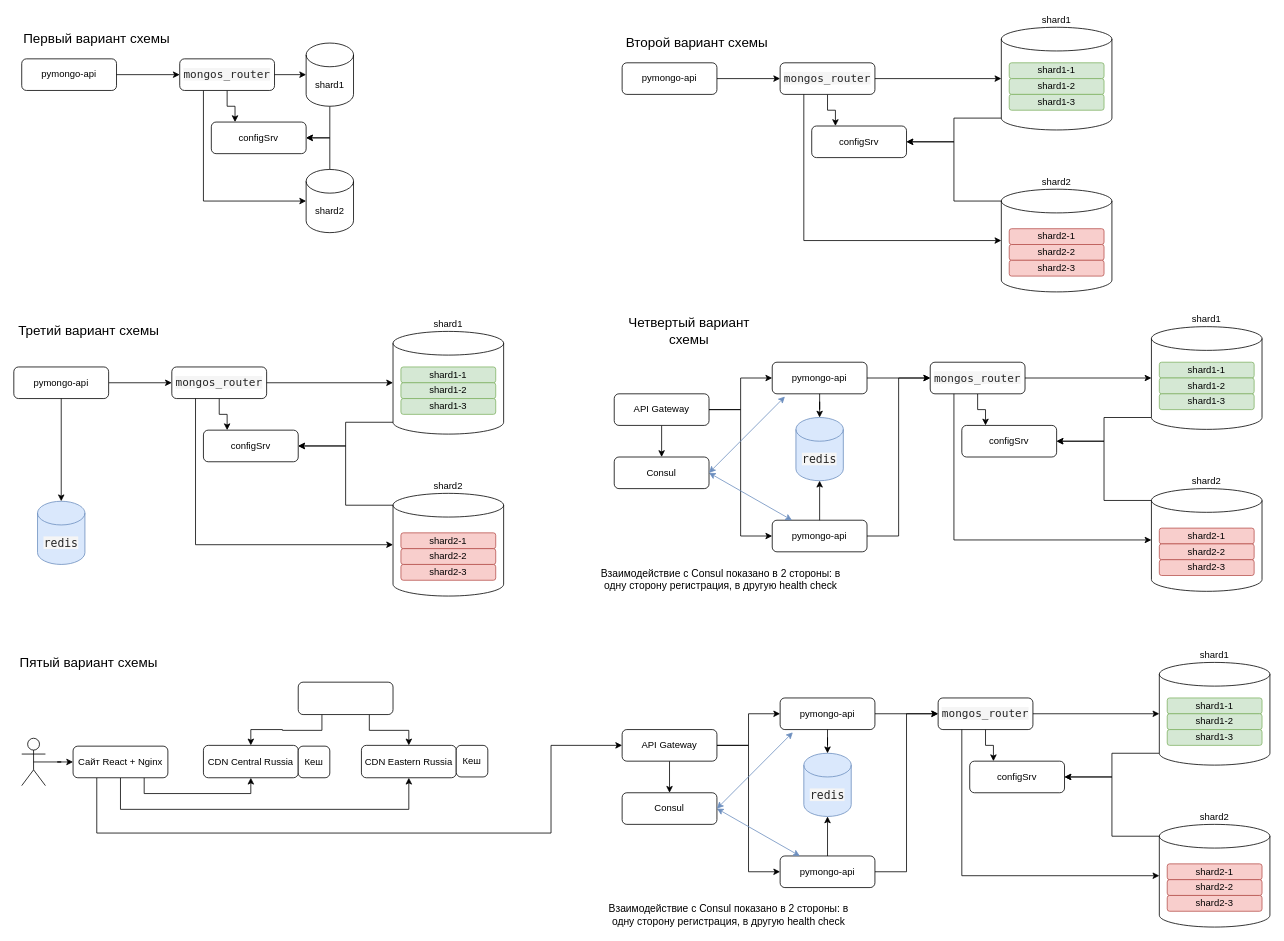
Some shapes in this 1284 by 941 pixel diagram are drawn without their labels. The centre of each missing label's shape, as x and y in pixels:
"Actor" goes at pixel 33 761.
"Основной сервер со статикой" goes at pixel 345 698.
